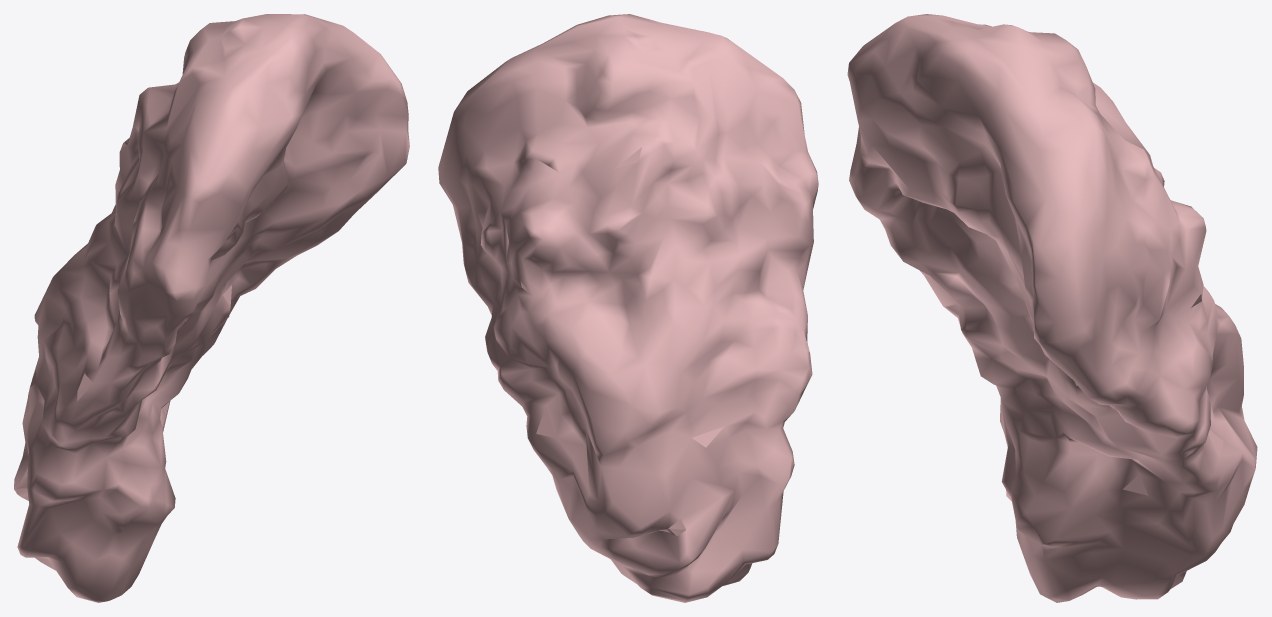
The model's file is 3d-vh-f-palatine-tonsil-r-20.glb.
3 renders of one model, left to right at view 1: azimuth 30°, elevation 25°; view 2: azimuth 150°, elevation 25°; view 3: azimuth 270°, elevation 25°, orthographic. The views are drawn at different scales.
Visible parts, largest first — view 1: VH_F_palatine_tonsil_R; view 2: VH_F_palatine_tonsil_R; view 3: VH_F_palatine_tonsil_R.
Boxes of the visible parts, <box> form: VH_F_palatine_tonsil_R: <box>14,14,409,602</box>; VH_F_palatine_tonsil_R: <box>438,14,818,602</box>; VH_F_palatine_tonsil_R: <box>847,14,1257,602</box>.
Bounding box in the file's own units: 0.0168 × 0.0239 × 0.0139.
